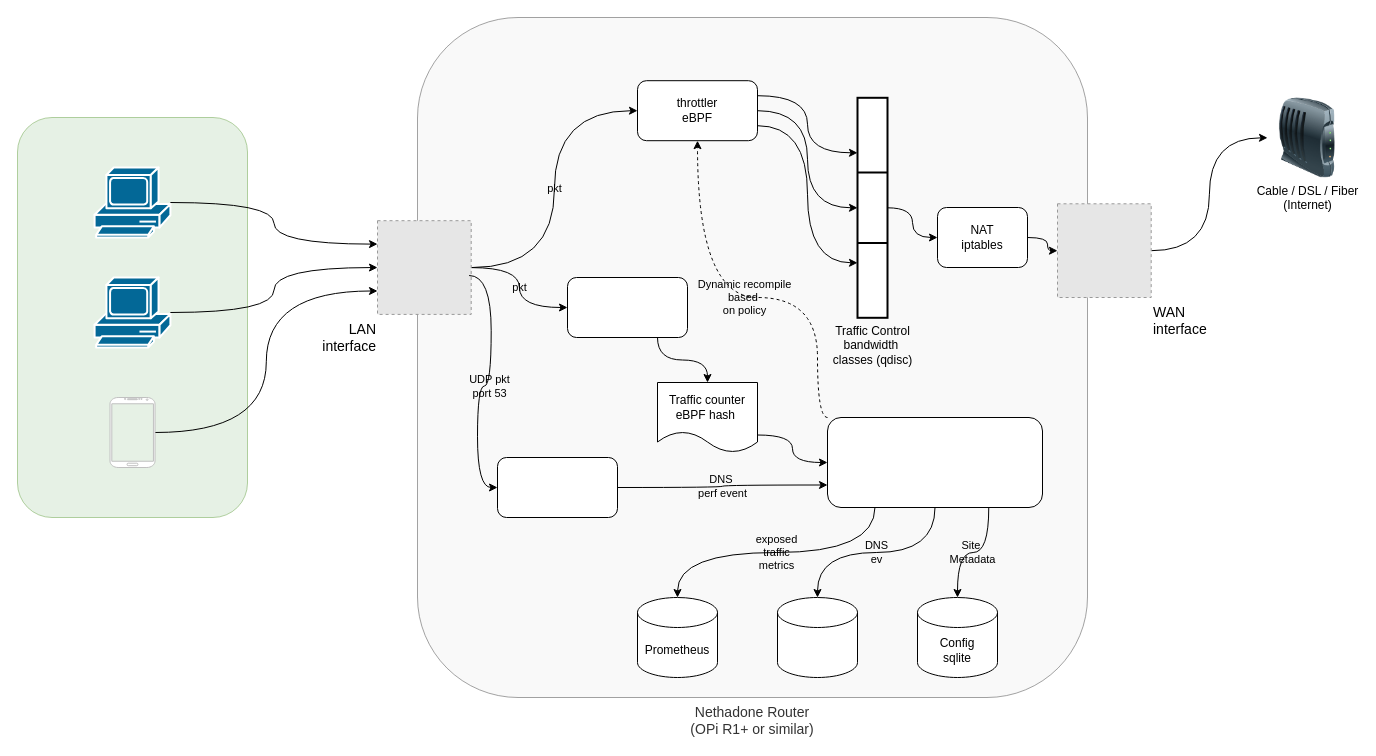
Image size: 1376x756. Some labels were removed from this diagram. Grey dashed boxes stand in for pictures. The box of each missing label's shape, as (x1, y1, x2, y2) in pixels:
DNS Cache sqlite: (776, 596, 858, 678)
DNS sniffer eBPF: (496, 456, 618, 518)
nethadone webapp: (826, 416, 1042, 508)
Protected Network: (16, 116, 248, 518)
Traffic Monitor eBPF: (566, 276, 688, 338)
